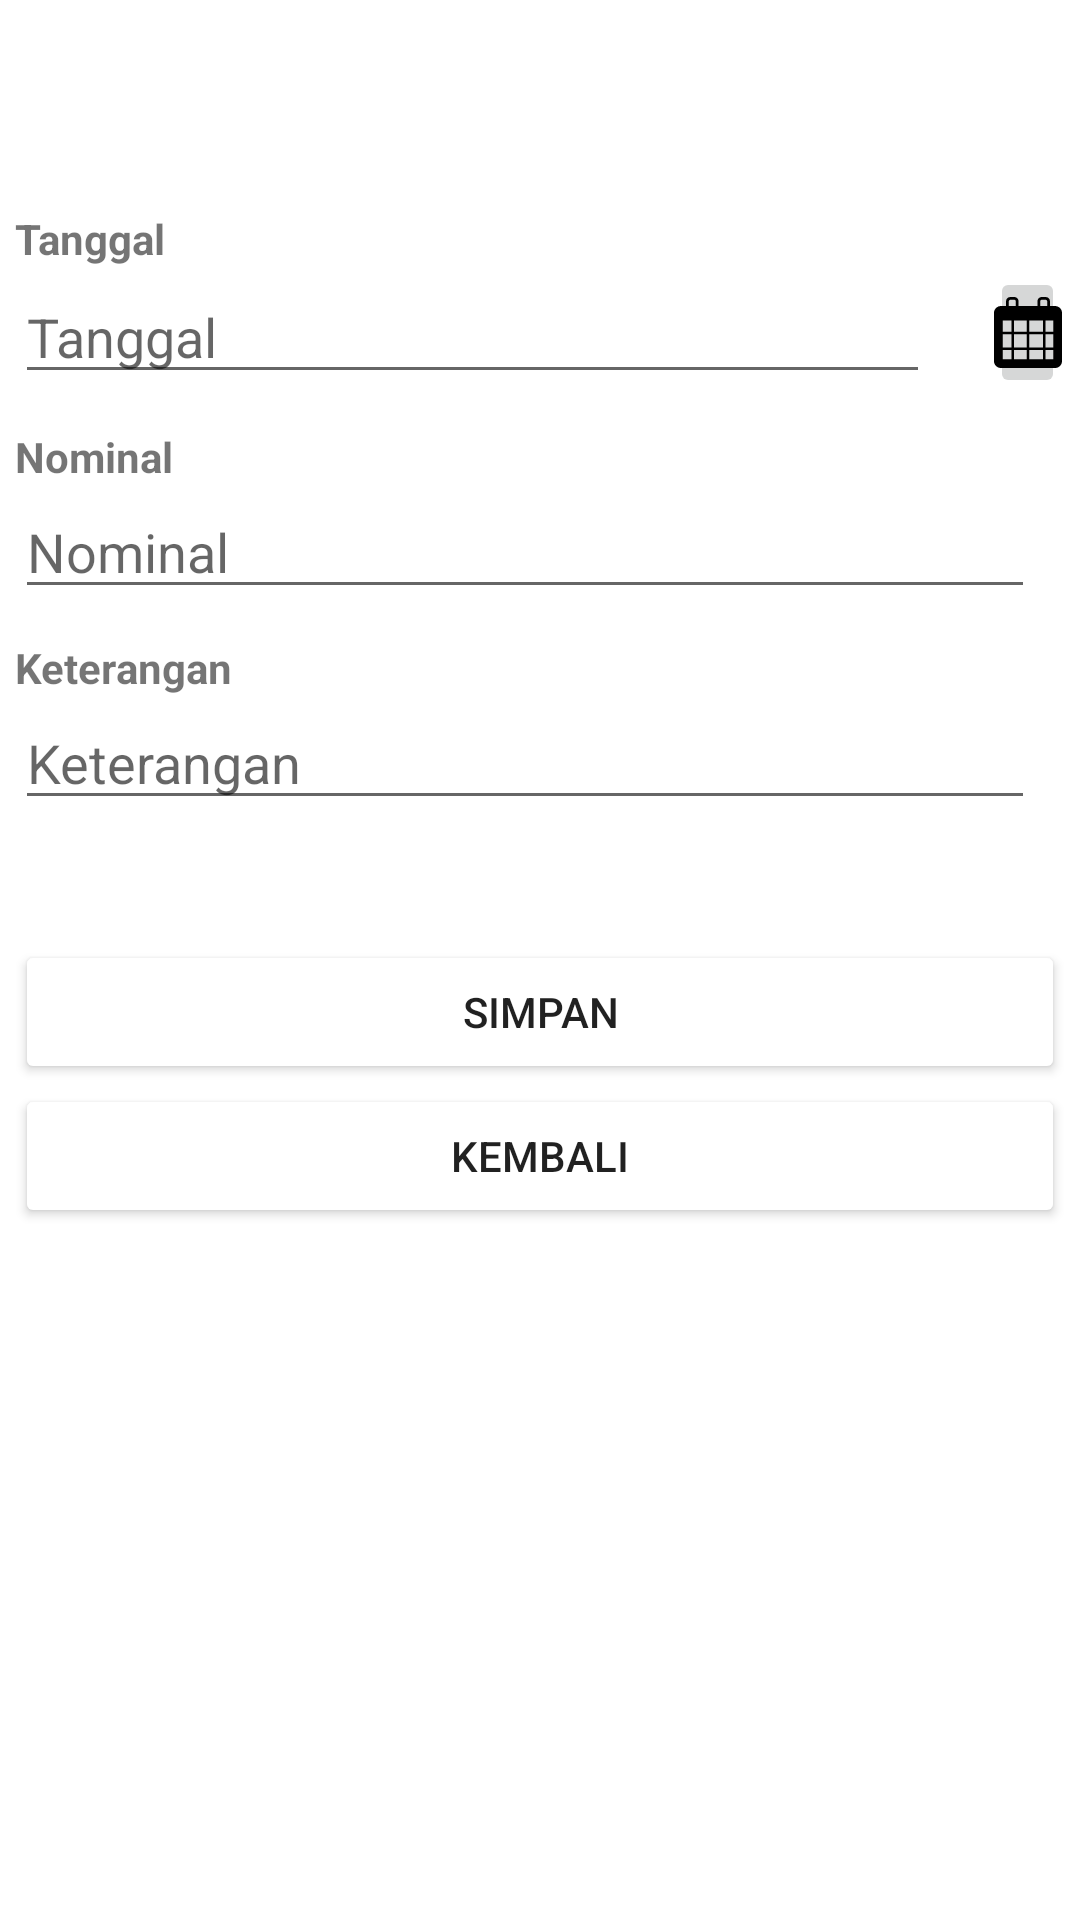

Point at icon controls on the screen. Image size 1080px x 1920px, points as point (x, y).
calendar: point (1028, 332)
